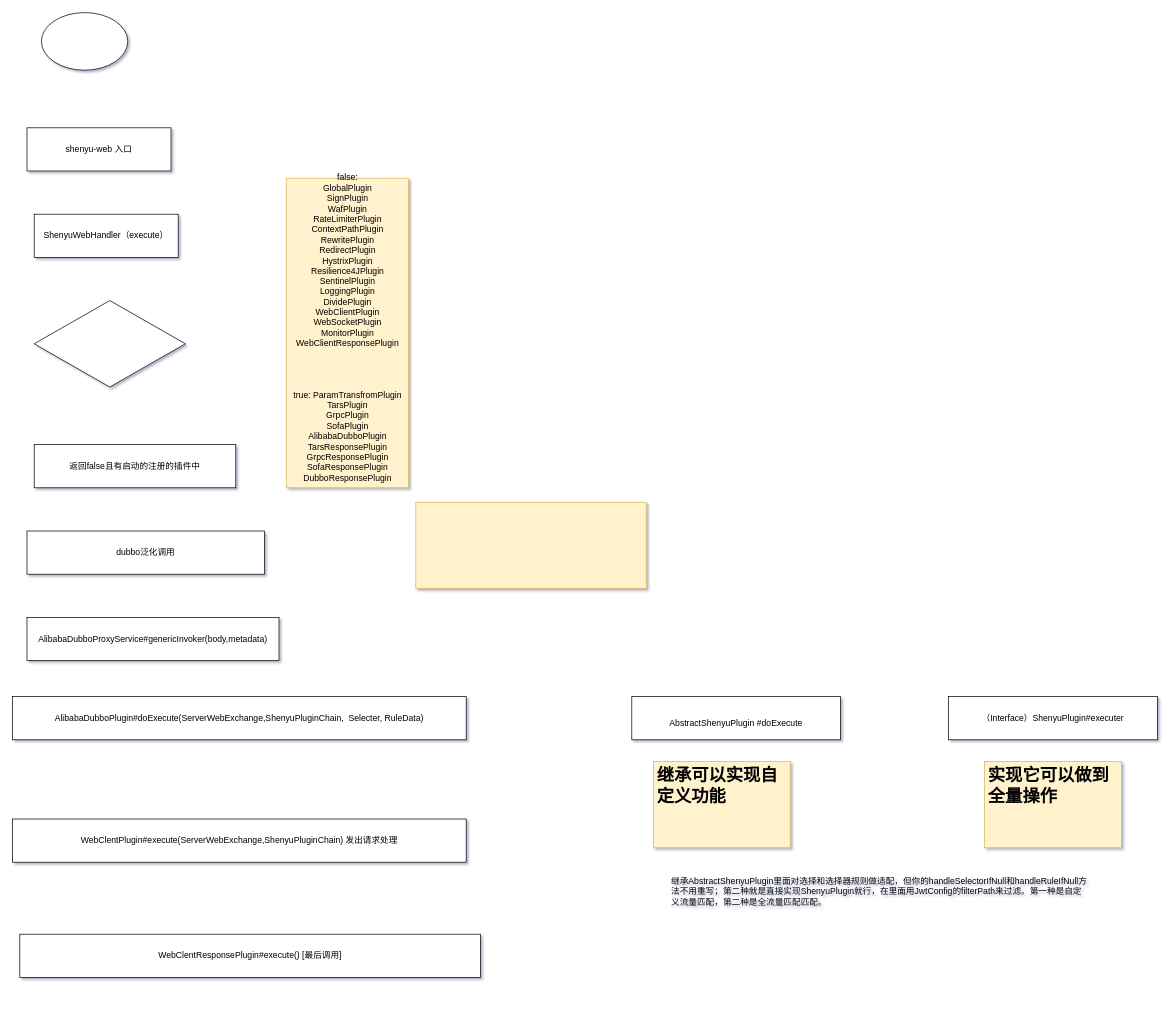
This 1174x1009 diagram has some shape labels left out. The shapes that lost their labels are listed below. From the top down, each one's box as (x1, y1, x2, y2) in pixels, then its label:
(41, 12, 128, 70): start
(33, 300, 185, 387): 是否skip
(415, 501, 646, 589): ServerWebExchange request response attribute.....
